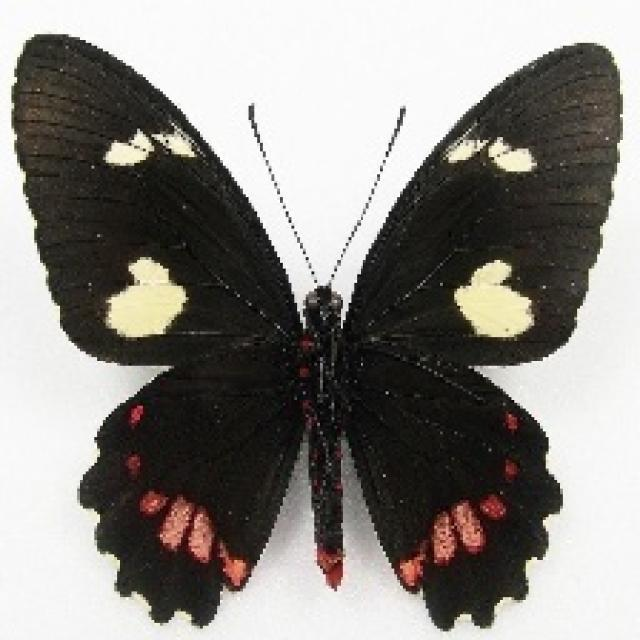butterfly: (10, 34, 622, 627)
